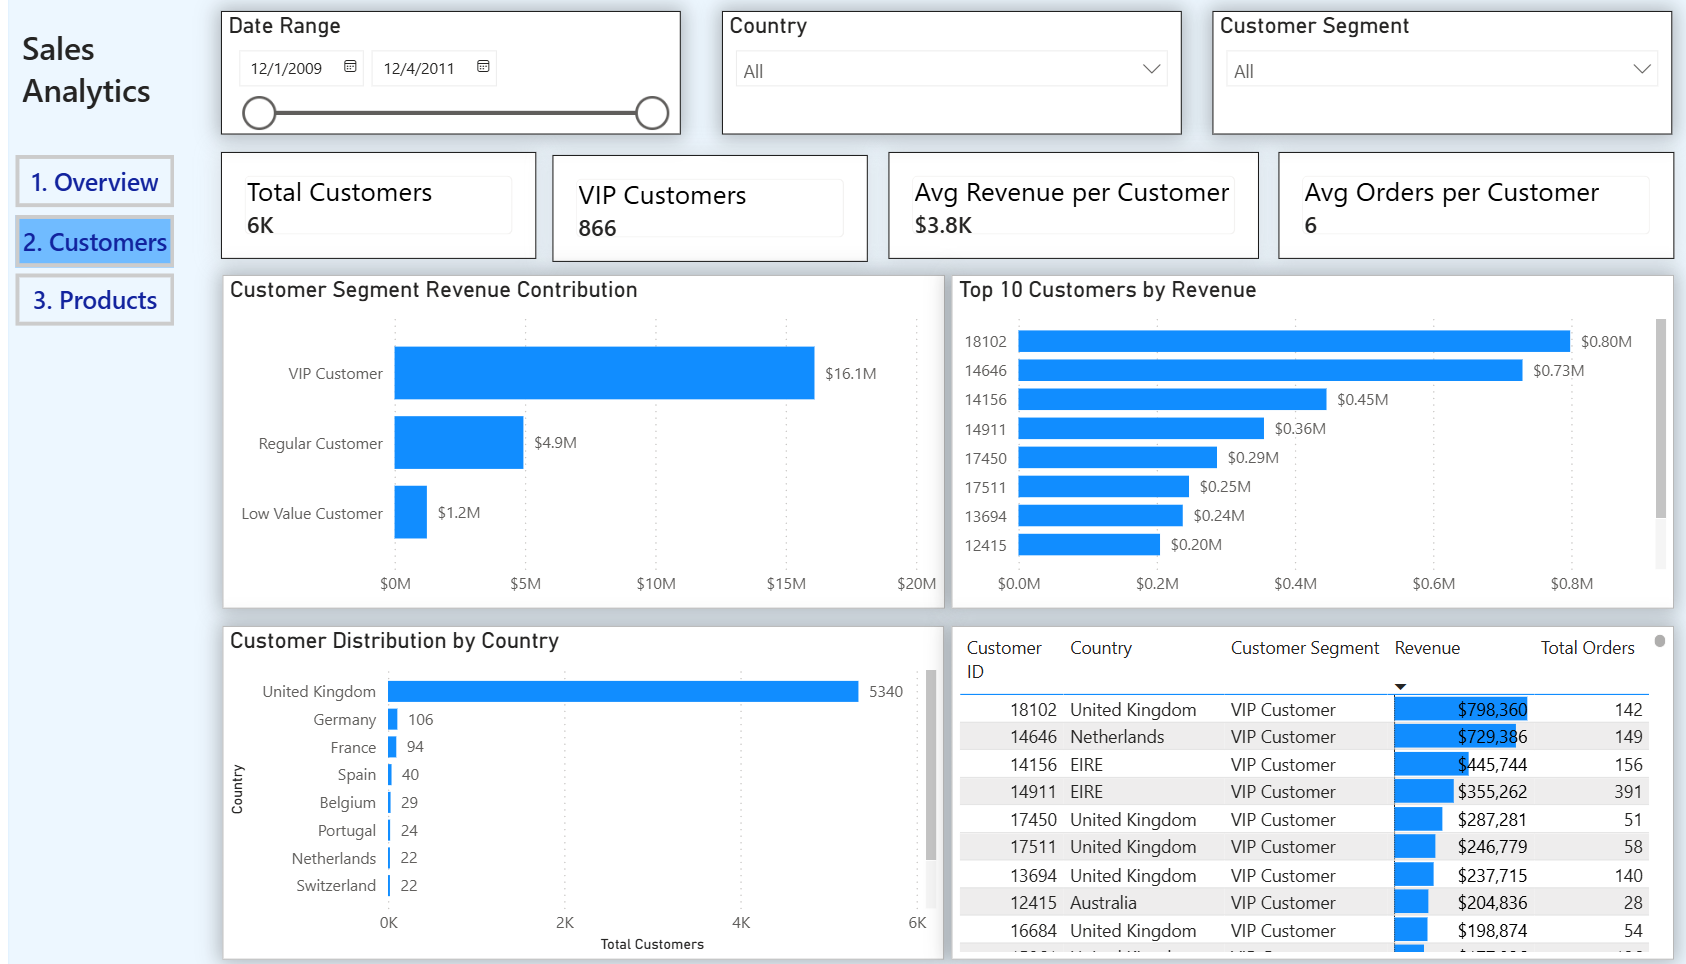

The dashboard page shown, as its layout file describes it:
{"tool":"powerbi","page":{"name":"Customers","canvas":[1280,740],"ordinal":1},"visuals":[{"type":"shape","box":[0,0,1279.3,740.2],"z":0},{"type":"textbox","box":[5.2,17.2,139.1,79],"z":1000},{"type":"actionButton","box":[5.7,120.9,120.9,39.7],"z":2000},{"type":"actionButton","box":[5.7,166.3,120.9,39.7],"z":3000},{"type":"actionButton","box":[5.7,211.7,120.9,39.7],"z":4000},{"type":"cardVisual","fields":{"Data":["Measure.Total Customers"]},"box":[162.3,118.4,240,81.1],"z":5000},{"type":"cardVisual","fields":{"Data":["Measure.VIP Customers"]},"box":[415,120.6,240,81.1],"z":6000},{"type":"cardVisual","fields":{"Data":["Measure.Average Customer Revenue"]},"box":[670,118.4,282,81.1],"z":7000},{"type":"cardVisual","fields":{"Data":["Measure.Average Orders per Customer"]},"box":[967,118.4,301,81.1],"z":9000},{"type":"clusteredBarChart","title":"Customer Segment Revenue Contribution","fields":{"Category":["dim_customer.CustomerSegment"],"Y":["Measure.Total Revenue"]},"box":[163.4,212.4,550,254],"z":10000},{"type":"barChart","title":"Customer Distribution by Country","fields":{"Category":["dim_customer.Country"],"Y":["Measure.Total Customers"]},"box":[163.4,480.2,549.4,254],"z":11000},{"type":"clusteredBarChart","title":"Top 10 Customers by Revenue","fields":{"Category":["dim_customer.CustomerID"],"Y":["Measure.Total Revenue"]},"box":[718.8,212.4,550,254],"z":12000},{"type":"tableEx","title":"Customer Order Frequency","fields":{"Values":["dim_customer.CustomerID","dim_customer.Country","dim_customer.CustomerSegment","dim_customer.CustomerRevenue","dim_customer.CustomerOrderCount"]},"box":[718.8,480.2,550,254],"z":13000},{"type":"slicer","title":"Date Range","fields":{"Values":["dim_date.Date"]},"box":[162,11,350,93.8],"z":14000},{"type":"slicer","title":"Country","fields":{"Values":["dim_customer.Country"]},"box":[543.9,11,350,93.8],"z":15000},{"type":"slicer","title":"Customer Segment","fields":{"Values":["dim_customer.CustomerSegment"]},"box":[916.7,11,350,93.8],"z":18000}]}

Visuals, with their boxes in screenshot pixels (x1, y1, x2, y2), scaled from the page's 1280x740 canvas onto the 1686x964 screenshot:
shape: {"x1": 0, "y1": 0, "x2": 1685, "y2": 963}
textbox: {"x1": 7, "y1": 22, "x2": 190, "y2": 125}
actionButton: {"x1": 8, "y1": 157, "x2": 167, "y2": 209}
actionButton: {"x1": 8, "y1": 217, "x2": 167, "y2": 268}
actionButton: {"x1": 8, "y1": 276, "x2": 167, "y2": 327}
cardVisual - Measure.Total Customers: {"x1": 214, "y1": 154, "x2": 530, "y2": 260}
cardVisual - Measure.VIP Customers: {"x1": 547, "y1": 157, "x2": 863, "y2": 263}
cardVisual - Measure.Average Customer Revenue: {"x1": 883, "y1": 154, "x2": 1254, "y2": 260}
cardVisual - Measure.Average Orders per Customer: {"x1": 1274, "y1": 154, "x2": 1670, "y2": 260}
"Customer Segment Revenue Contribution" clusteredBarChart: {"x1": 215, "y1": 277, "x2": 940, "y2": 608}
"Customer Distribution by Country" barChart: {"x1": 215, "y1": 626, "x2": 939, "y2": 956}
"Top 10 Customers by Revenue" clusteredBarChart: {"x1": 947, "y1": 277, "x2": 1671, "y2": 608}
"Customer Order Frequency" tableEx: {"x1": 947, "y1": 626, "x2": 1671, "y2": 956}
"Date Range" slicer: {"x1": 213, "y1": 14, "x2": 674, "y2": 137}
"Country" slicer: {"x1": 716, "y1": 14, "x2": 1177, "y2": 137}
"Customer Segment" slicer: {"x1": 1207, "y1": 14, "x2": 1668, "y2": 137}
